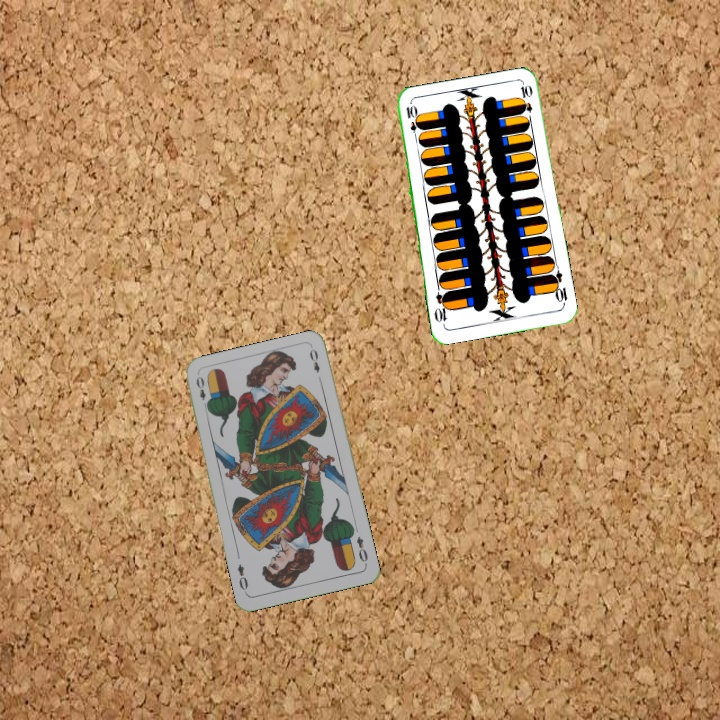E10: (547, 267, 570, 308), (402, 101, 421, 142)
EO: (192, 372, 211, 412), (352, 532, 370, 568)
